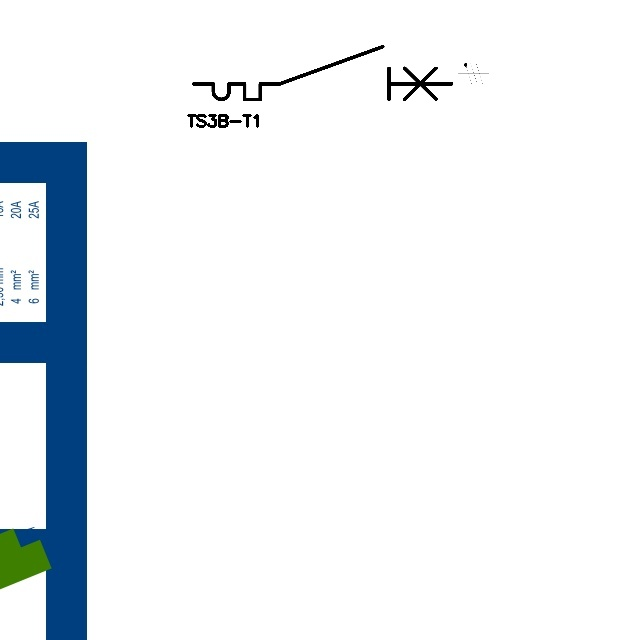interruptor_termomagnetico: (187, 40, 458, 106)
